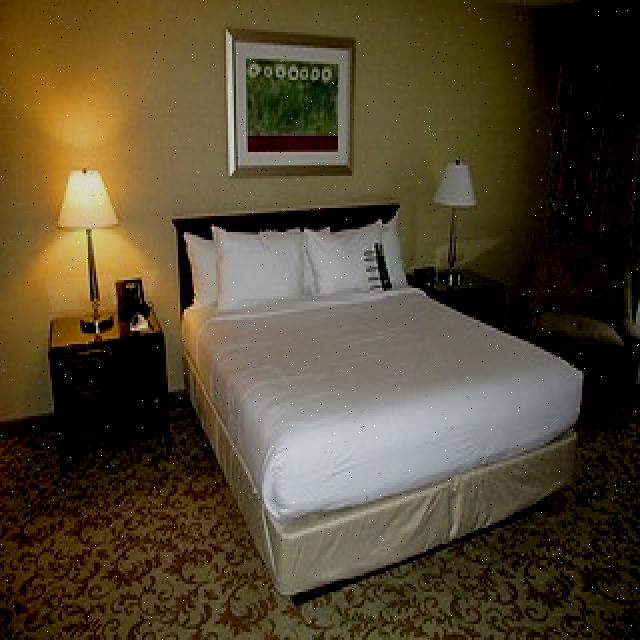bed: (166, 215, 566, 572)
